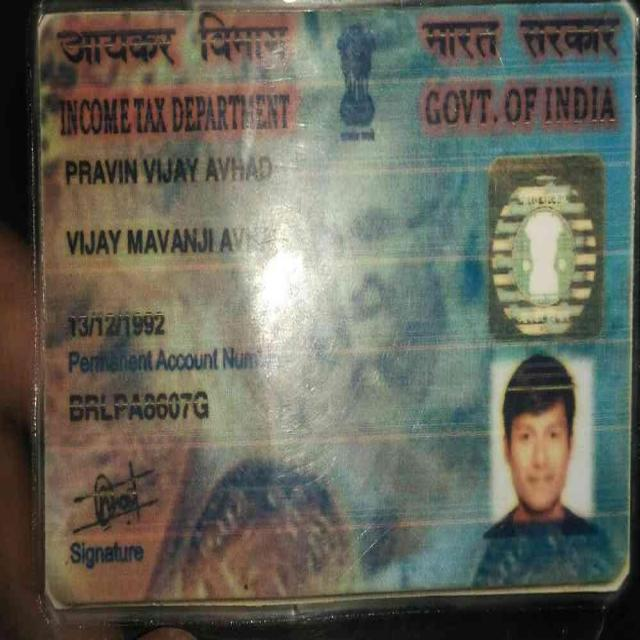pan_card: (38, 4, 630, 600)
